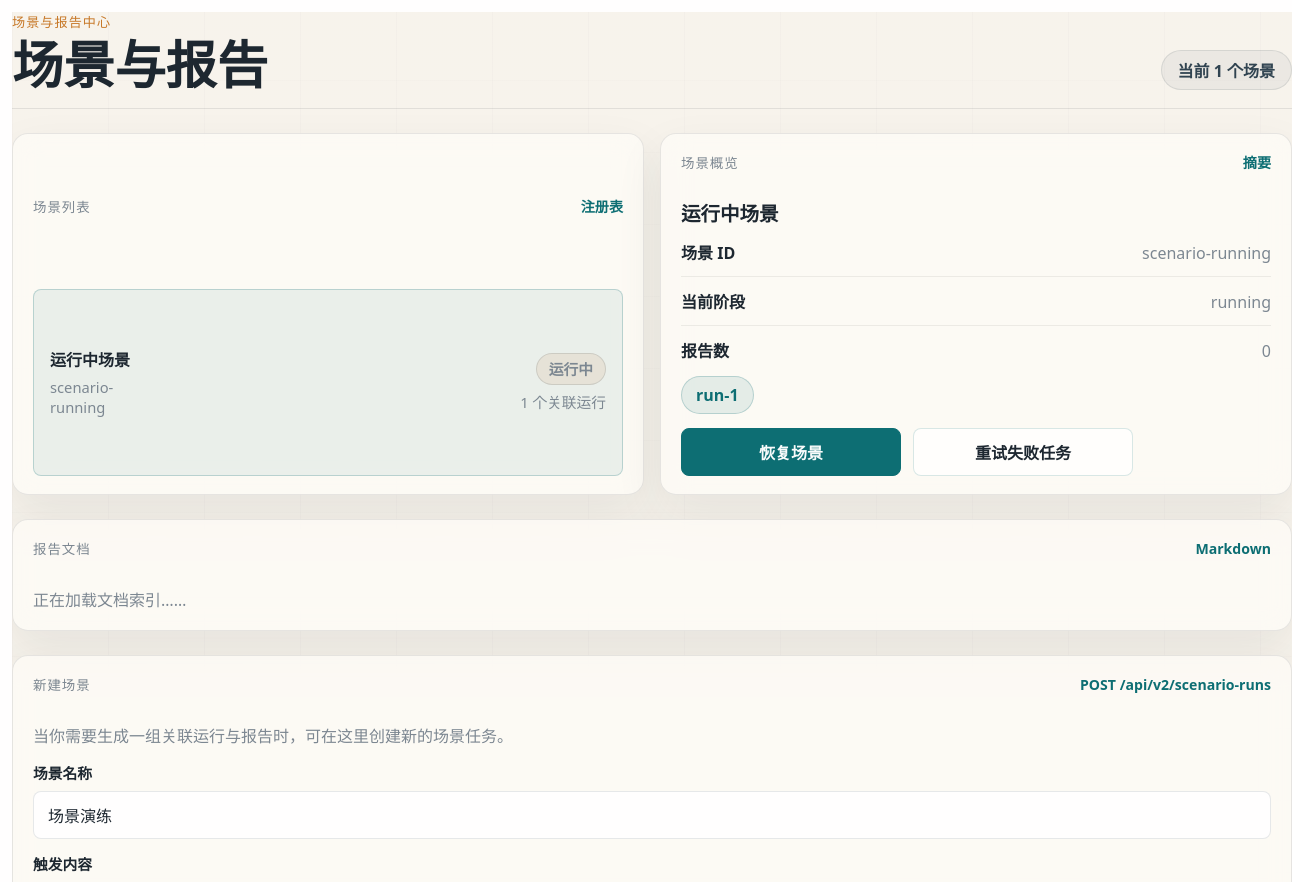
Test: 点击普通恢复会 POST resume 并刷新后保持返回的场景选中
Click the button "恢复场景" at [791, 452], box [681,428,901,476]
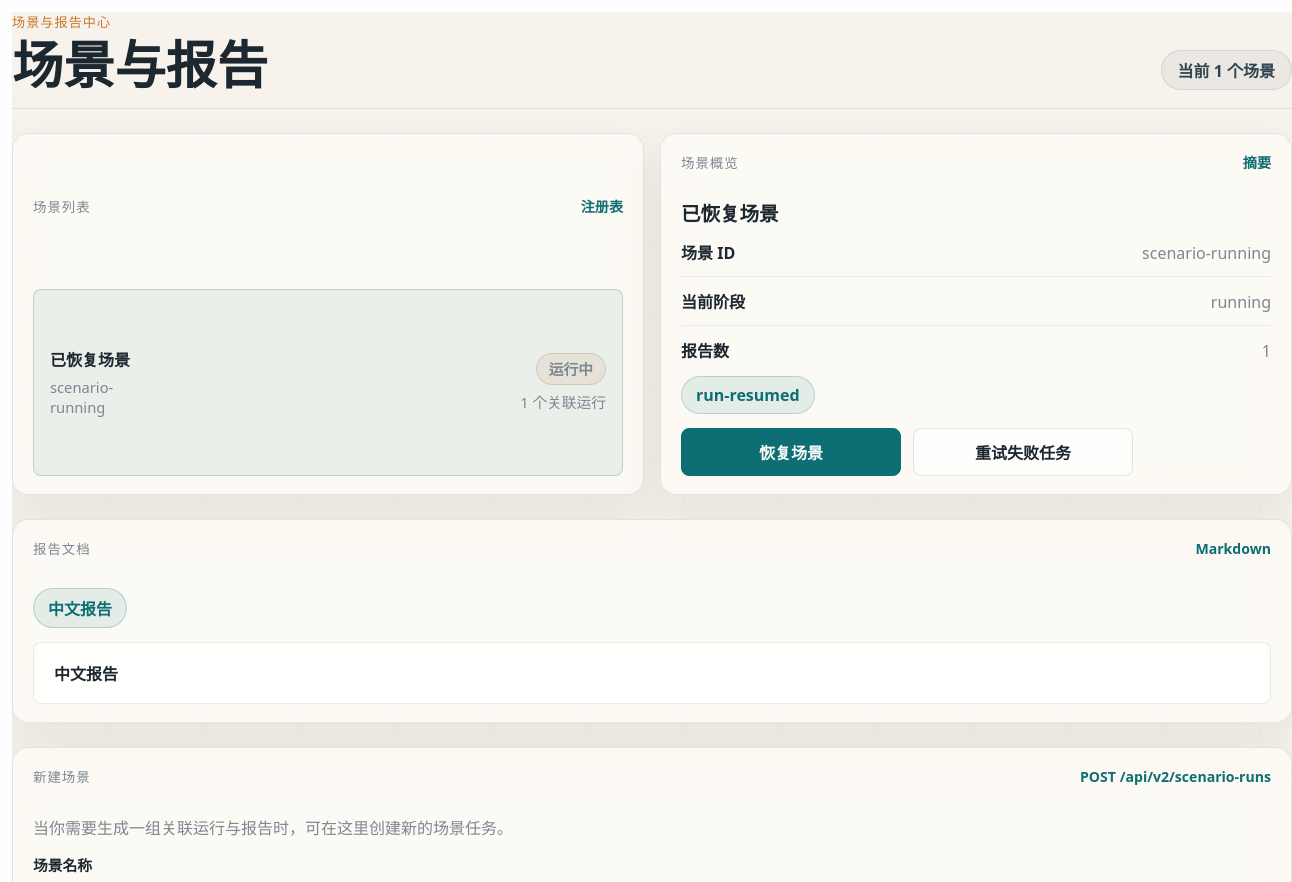
Expected: the text "已恢复场景" is shown 2 times, [50,349,130,371]; [681,200,779,227]
Expected: the link "run-resumed" is shown, [681,376,815,414]
